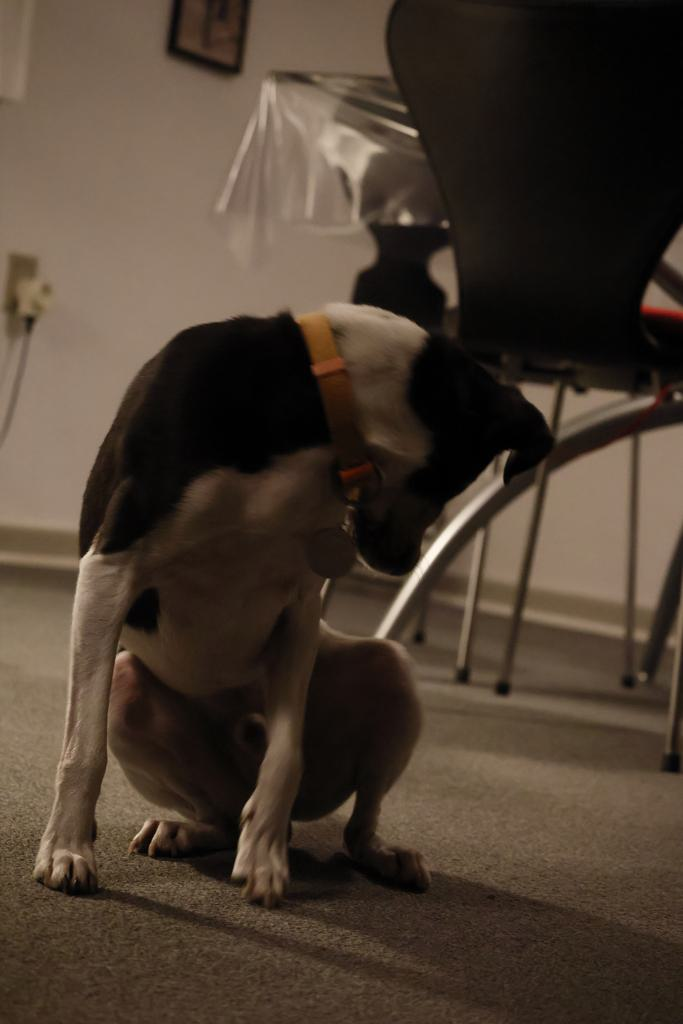Dog: (19, 285, 583, 945)
